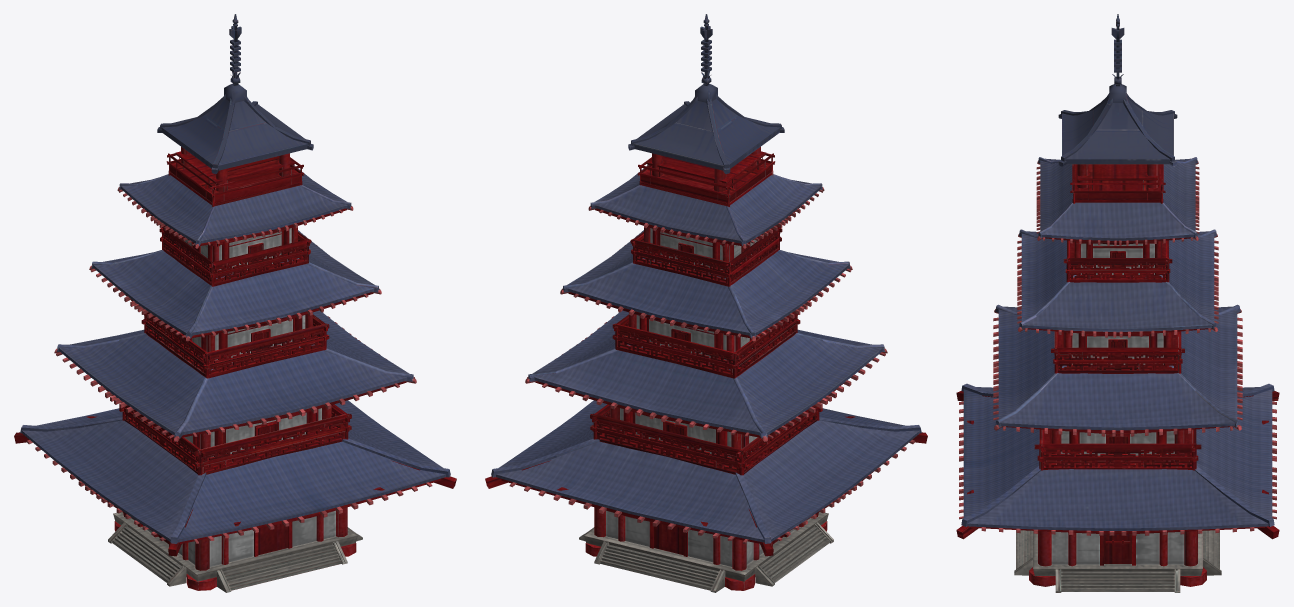
The model's file is pagoda.obj.
3 renders of one model, left to right at view 1: azimuth 30°, elevation 25°; view 2: azimuth 150°, elevation 25°; view 3: azimuth 270°, elevation 25°, orthographic.
Visible parts, largest first — view 1: Cube.021; view 2: Cube.021; view 3: Cube.021.
Boxes of the visible parts, box(x1,y1,x2,y2) form: Cube.021: box(14, 14, 456, 592); Cube.021: box(485, 14, 927, 592); Cube.021: box(956, 14, 1279, 592).
Size of the model in its own units: 4.01 by 7 by 3.86.
Materials: 1 (1 with a texture image).
